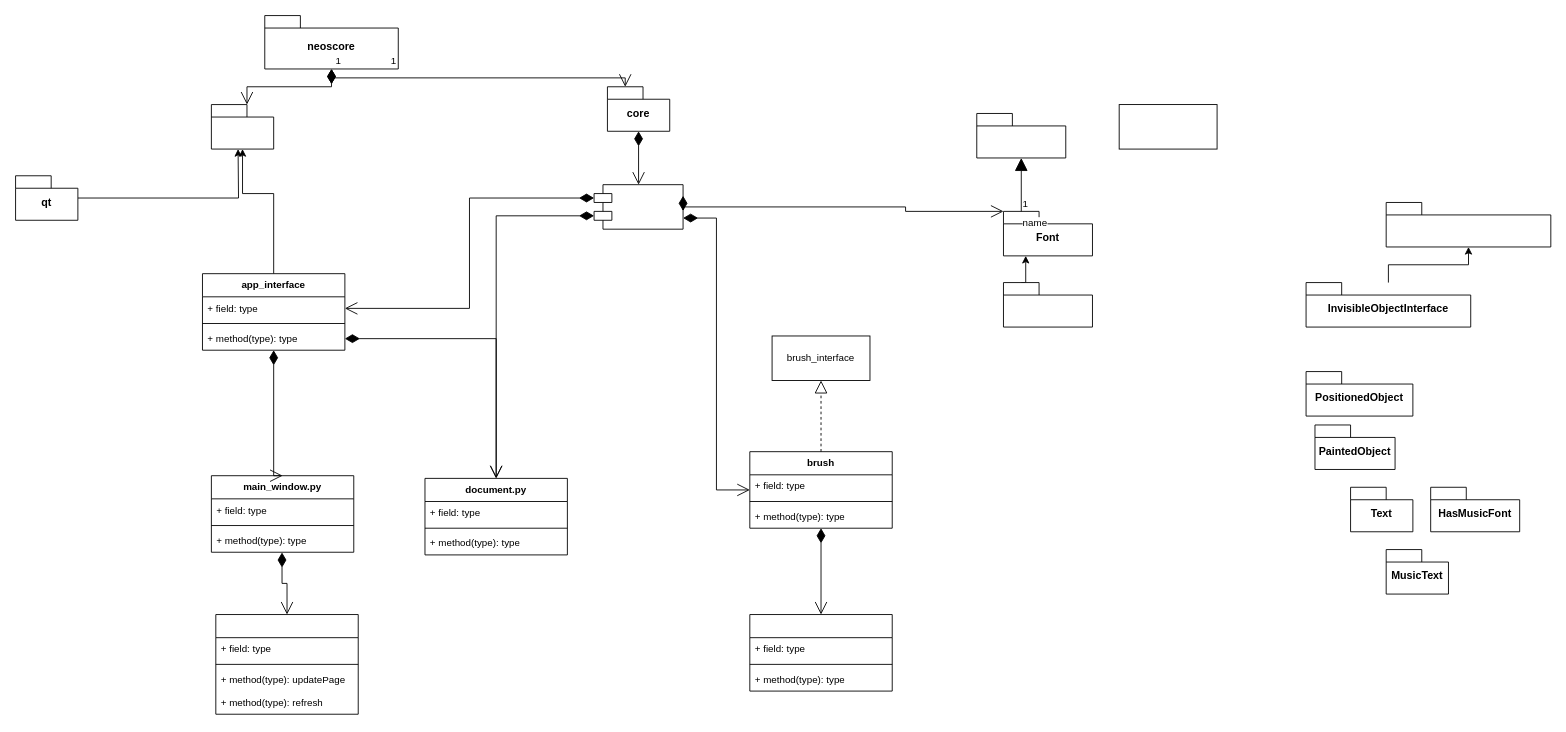
Image size: 1566x732. Some labels were removed from this diagram. Each missing label, with the box of its shape:
brush_pattern: (749, 614, 892, 691)
FontInterface: (1118, 104, 1217, 149)
interface: (210, 104, 274, 149)
main_window.ui: (215, 614, 358, 714)
MusicFont: (1003, 282, 1092, 327)
neoscore.py - def setup - def show: (593, 184, 683, 229)
PositionedObjectInterface: (1385, 202, 1551, 247)
